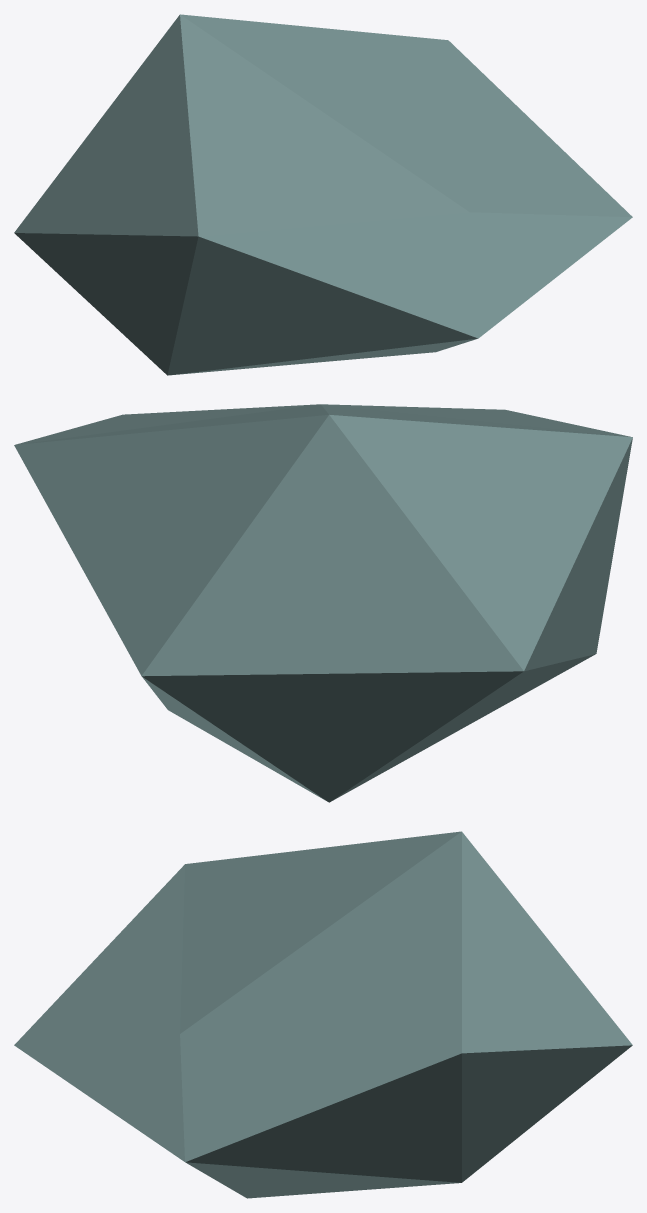
File: rock4_coloured.fbx
The picture shows the model from 3 angles, top to bottom: view 1: azimuth 30°, elevation 25°; view 2: azimuth 150°, elevation 25°; view 3: azimuth 270°, elevation 25°; orthographic projection. The views are drawn at different scales.
Parts seen in each view (by area): view 1: pPlatonic2; view 2: pPlatonic2; view 3: pPlatonic2.
Part boxes in pixels (<box>): pPlatonic2: <box>14,14,632,375</box>; pPlatonic2: <box>14,404,632,802</box>; pPlatonic2: <box>14,831,632,1198</box>.
Bounding box in the file's own units: 1.79 × 1.18 × 2.
